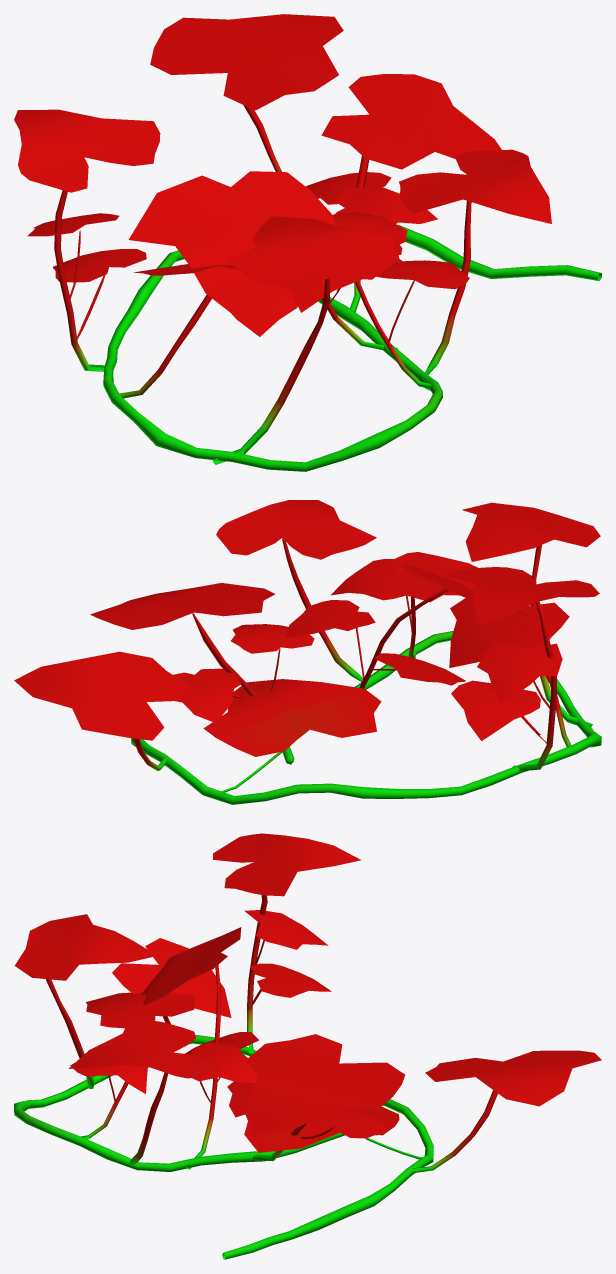
The model's file is Var4_LOD1.fbx.
3 renders of one model, top to bottom at view 1: azimuth 30°, elevation 25°; view 2: azimuth 150°, elevation 25°; view 3: azimuth 270°, elevation 25°, orthographic. The views are drawn at different scales.
Visible parts, largest first — view 1: _btzr_Var4_LOD1; view 2: _btzr_Var4_LOD1; view 3: _btzr_Var4_LOD1.
Boxes of the visible parts, x1,y1,x2,y2 form: _btzr_Var4_LOD1: (14,14,601,471); _btzr_Var4_LOD1: (14,500,601,804); _btzr_Var4_LOD1: (14,833,601,1259).
Bounding box in the file's own units: 29.05 × 12.73 × 31.21.
